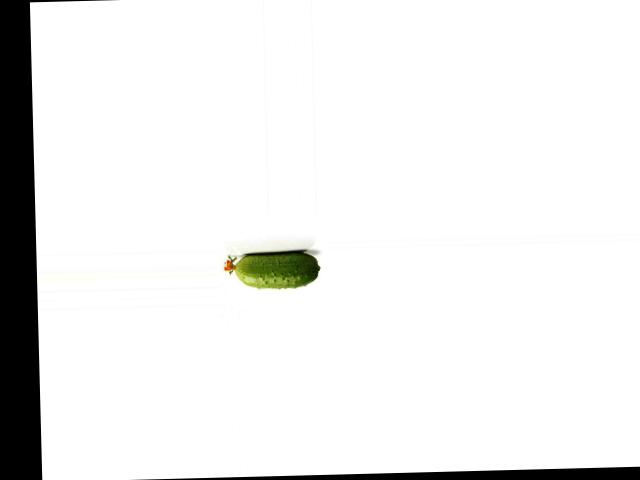cucumber: (224, 250, 321, 289)
